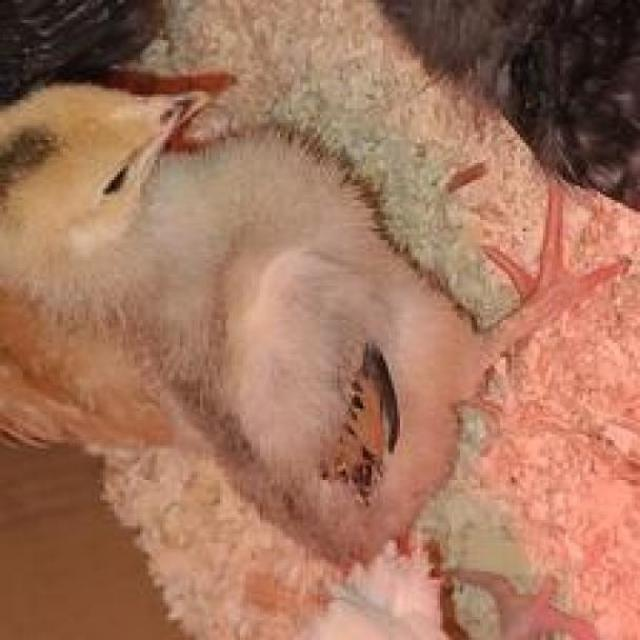Chicken: (0, 89, 640, 580)
